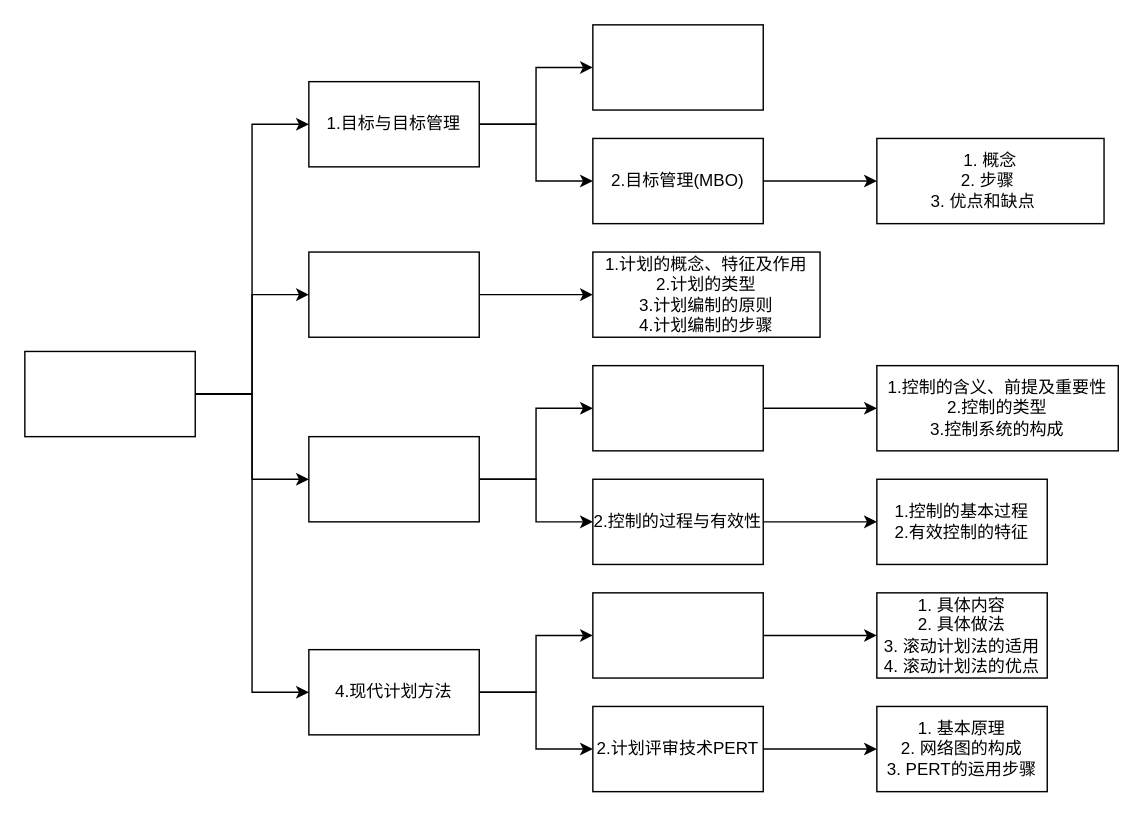
This 1143x817 diagram has some shape labels left out. The centre of each missing label's shape, as x and y in pixels:
"1.控制的性质与控制系统的构成" goes at point 677,407.
"1.滚动计划法" goes at point 677,634.
"1.目标的概念与特征" goes at point 677,66.
"2.计划的性质与编制" goes at point 393,294.
"3.控制" goes at point 393,478.
"计划、目标与控制" goes at point 109,393.
